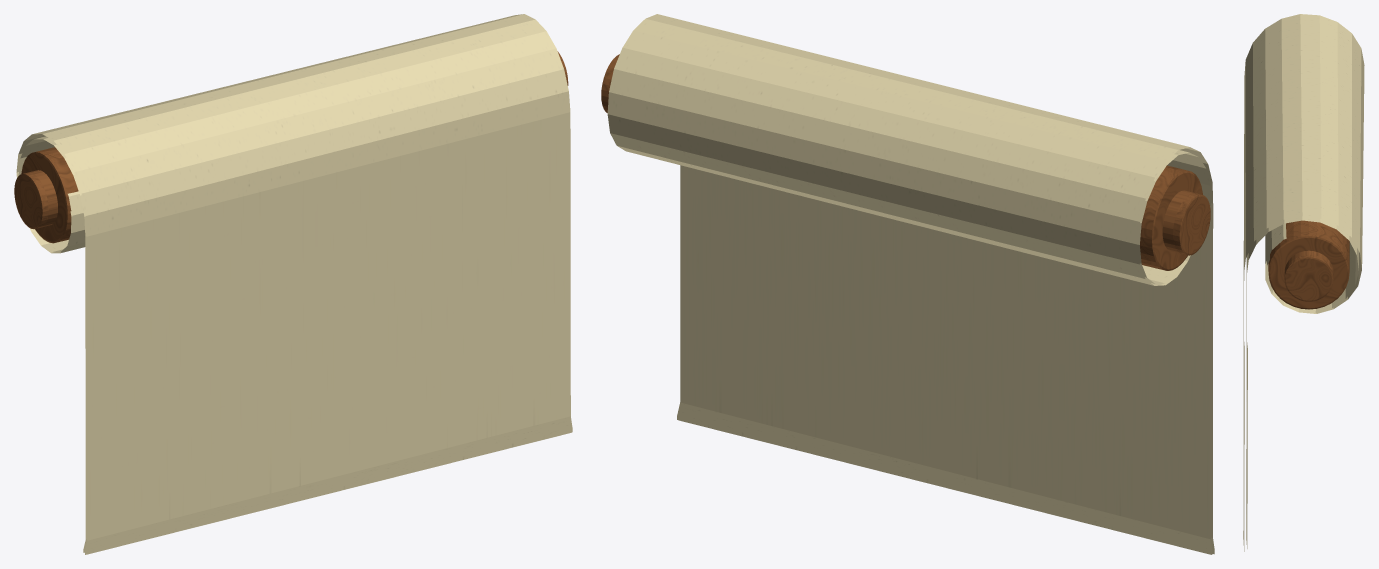
File: Scroll_BlendShape_ani.fbx
3 views of the same model, side by side, from view 1: azimuth 30°, elevation 25°; view 2: azimuth 150°, elevation 25°; view 3: azimuth 270°, elevation 25° (orthographic). The views are drawn at different scales.
Visible parts, largest first — view 1: Scroll; view 2: Scroll; view 3: Scroll.
Boxes of the visible parts, left/top/right/bottom form: Scroll: left=14, top=14, right=572, bottom=554; Scroll: left=601, top=14, right=1214, bottom=554; Scroll: left=1243, top=14, right=1364, bottom=551.
Size of the model in its own units: 146 by 104 by 33.52.
1 material, 1 textured.
